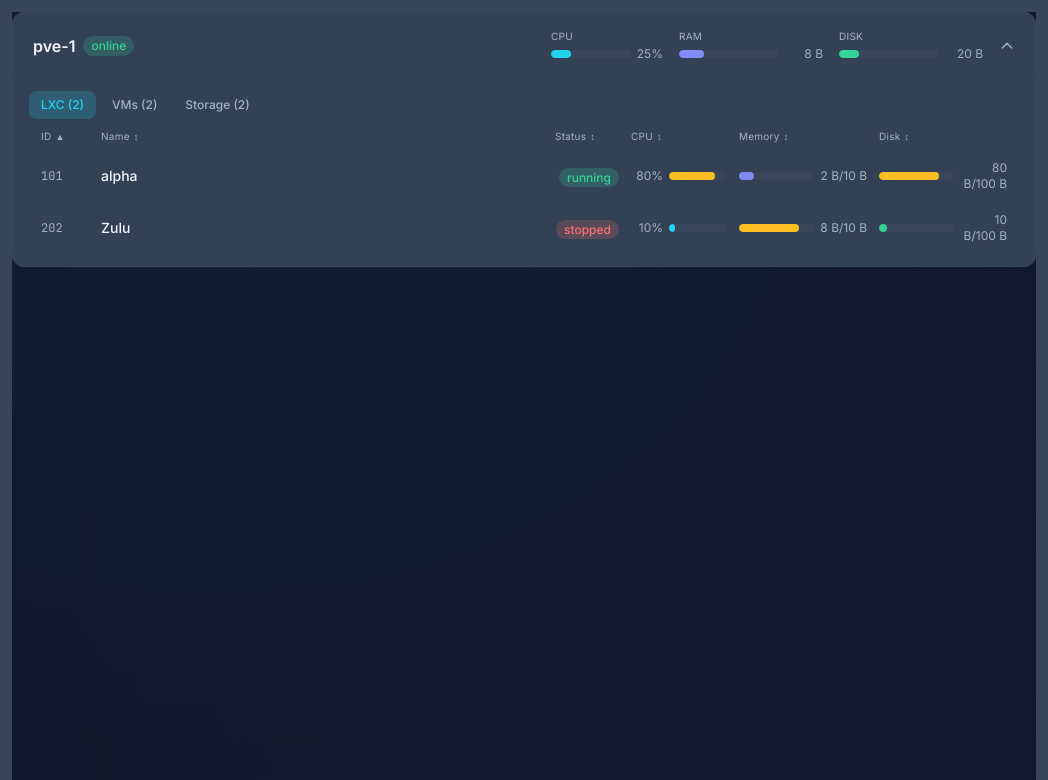
Scenario: NodeCard sortable tables › keeps VM and LXC sort choices independent
Click the button with aria-label "Sort by Name in Main Cluster pve-1 LXC containers": x=115, y=136 [101, 129, 543, 144]
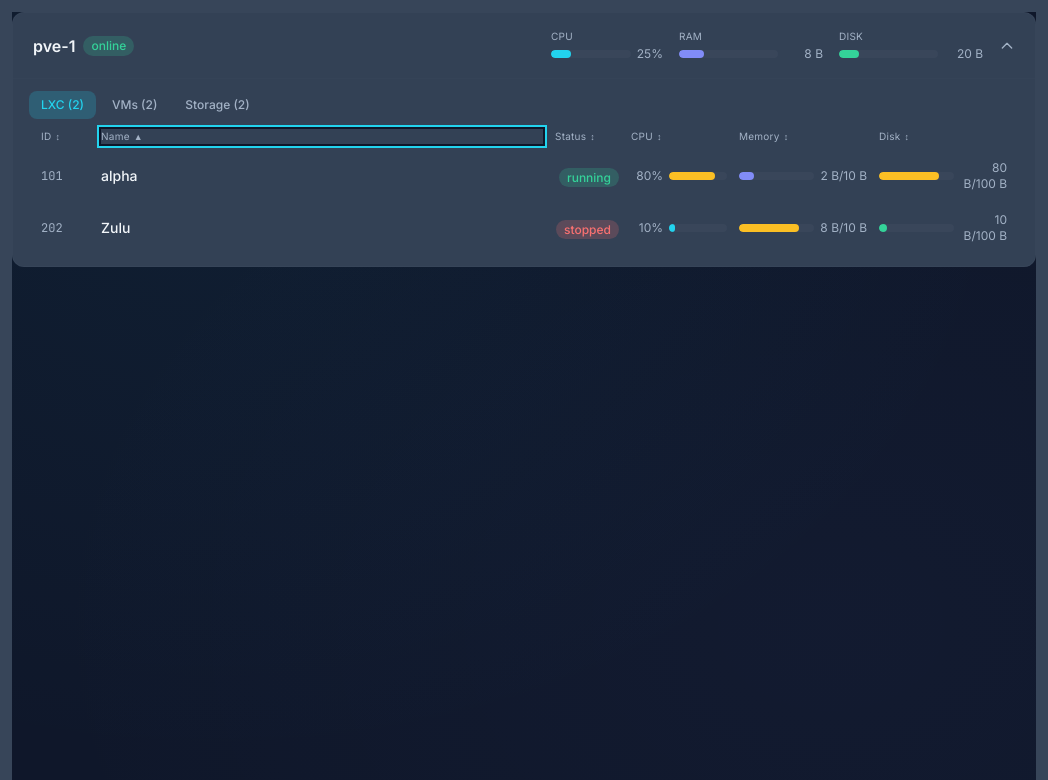
Click the button with aria-label "Sort by Name in Main Cluster pve-1 LXC containers": x=115, y=136 [101, 129, 543, 144]
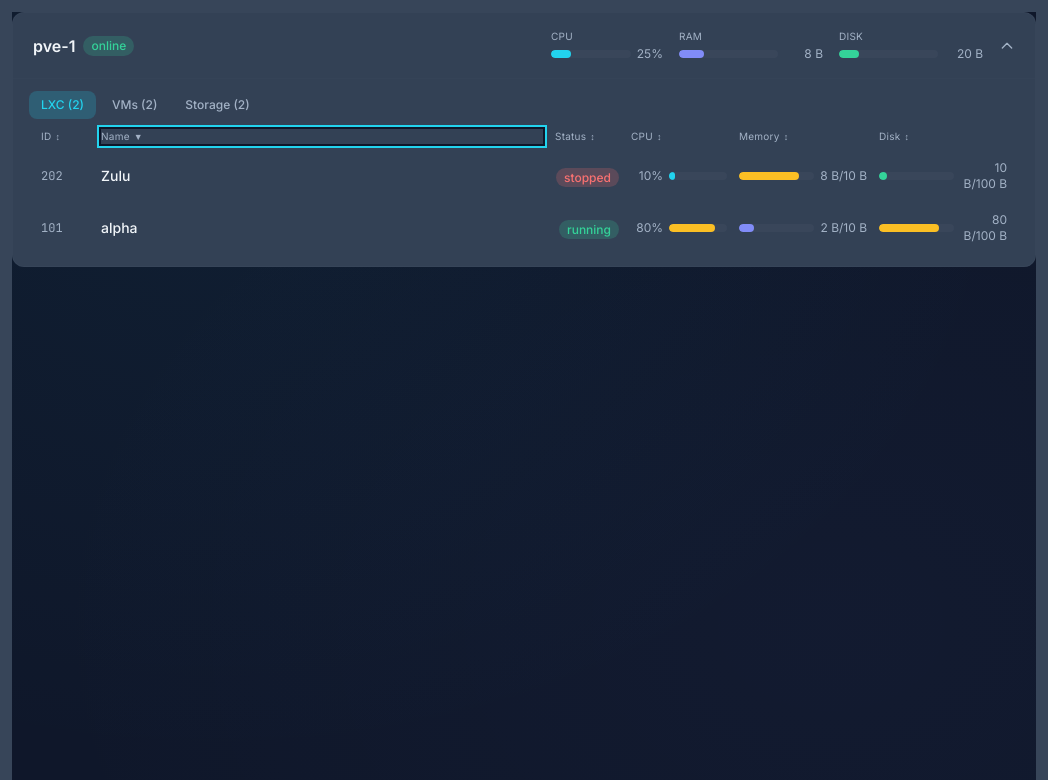
Click the tab "VMs (2)": x=135, y=105 [100, 91, 169, 119]
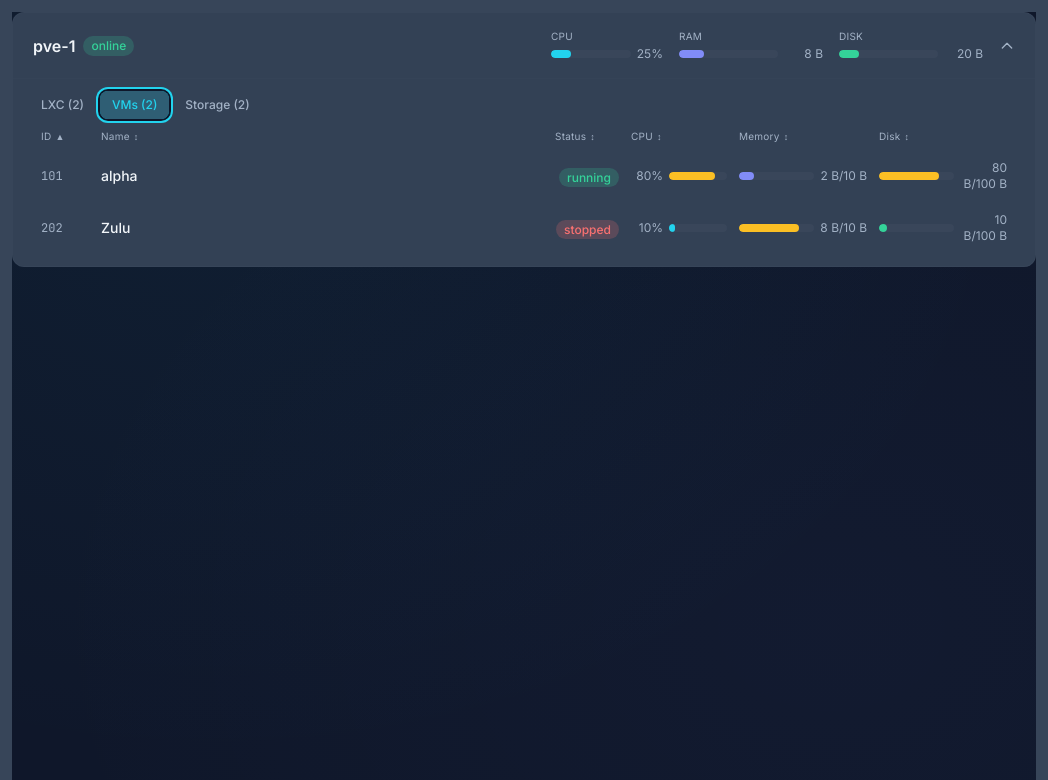
expect the button with aria-label "Sort by ID in Main Cluster pve-1 VMs, currently ascending" is shown: met, box [41, 129, 89, 144]
